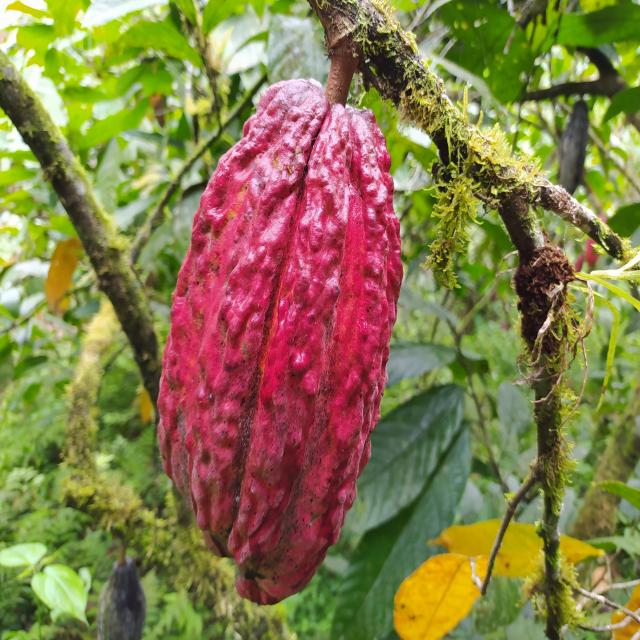Sana: (158, 78, 403, 609)
